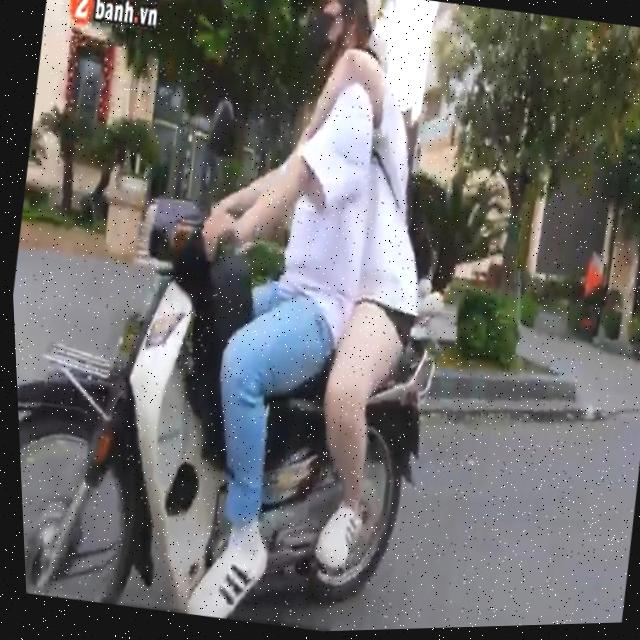motorcycle: (8, 160, 474, 640)
